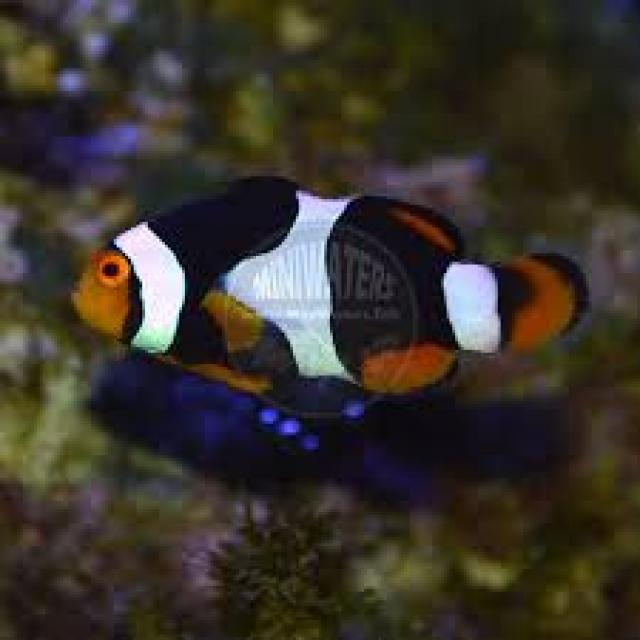Amphiprion-percula: (37, 133, 640, 494)
